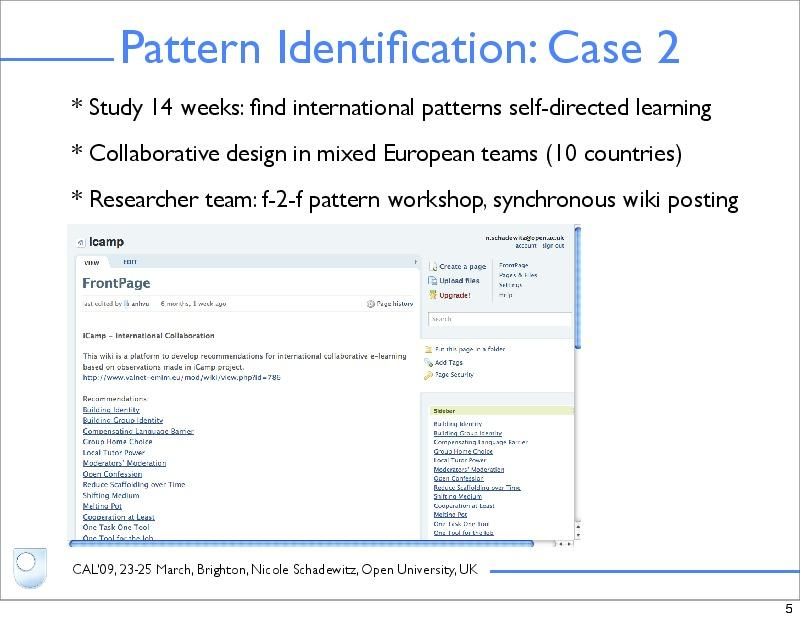paragraph: (70, 88, 769, 553)
title: (115, 4, 700, 81)
